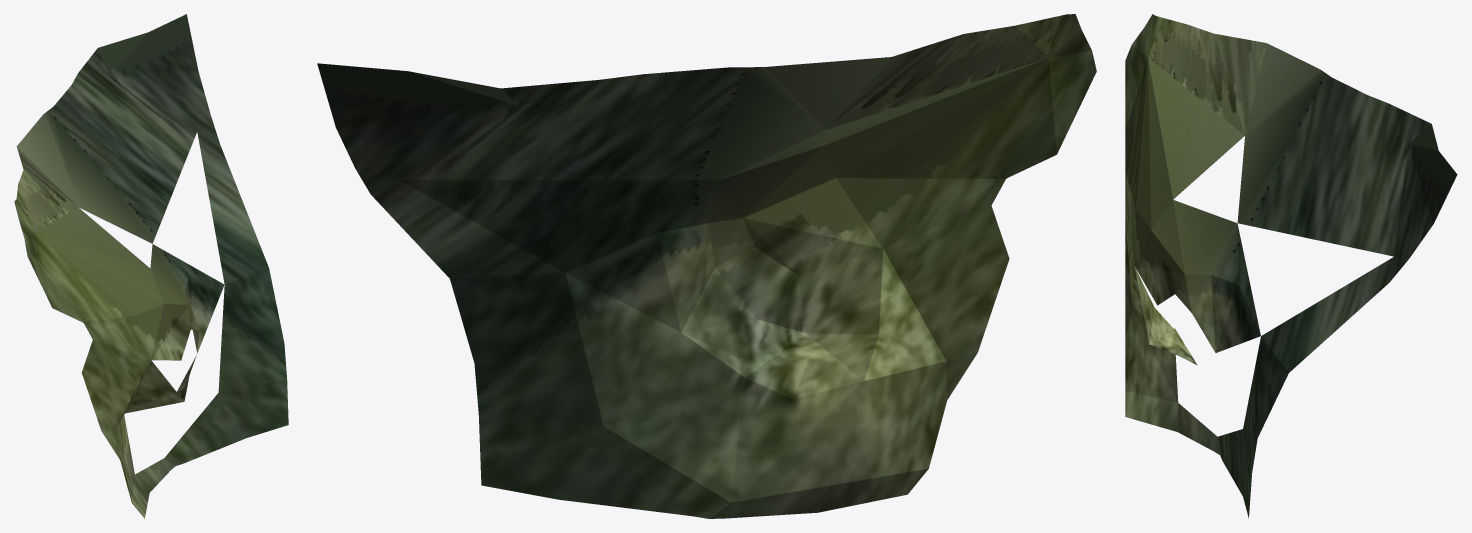
3 renders of one model, left to right at view 1: azimuth 30°, elevation 25°; view 2: azimuth 150°, elevation 25°; view 3: azimuth 270°, elevation 25°, orthographic. The views are drawn at different scales.
Bounding box in the file's own units: 2.95 × 2.95 × 2.58.
3 materials, 3 textured.
